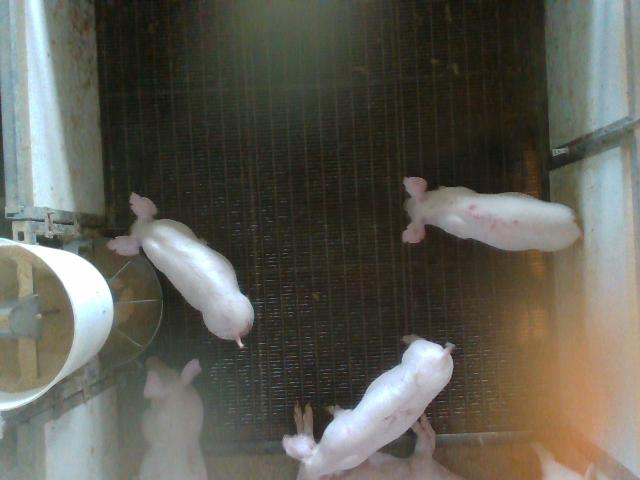pig-5: (402, 179, 581, 251)
